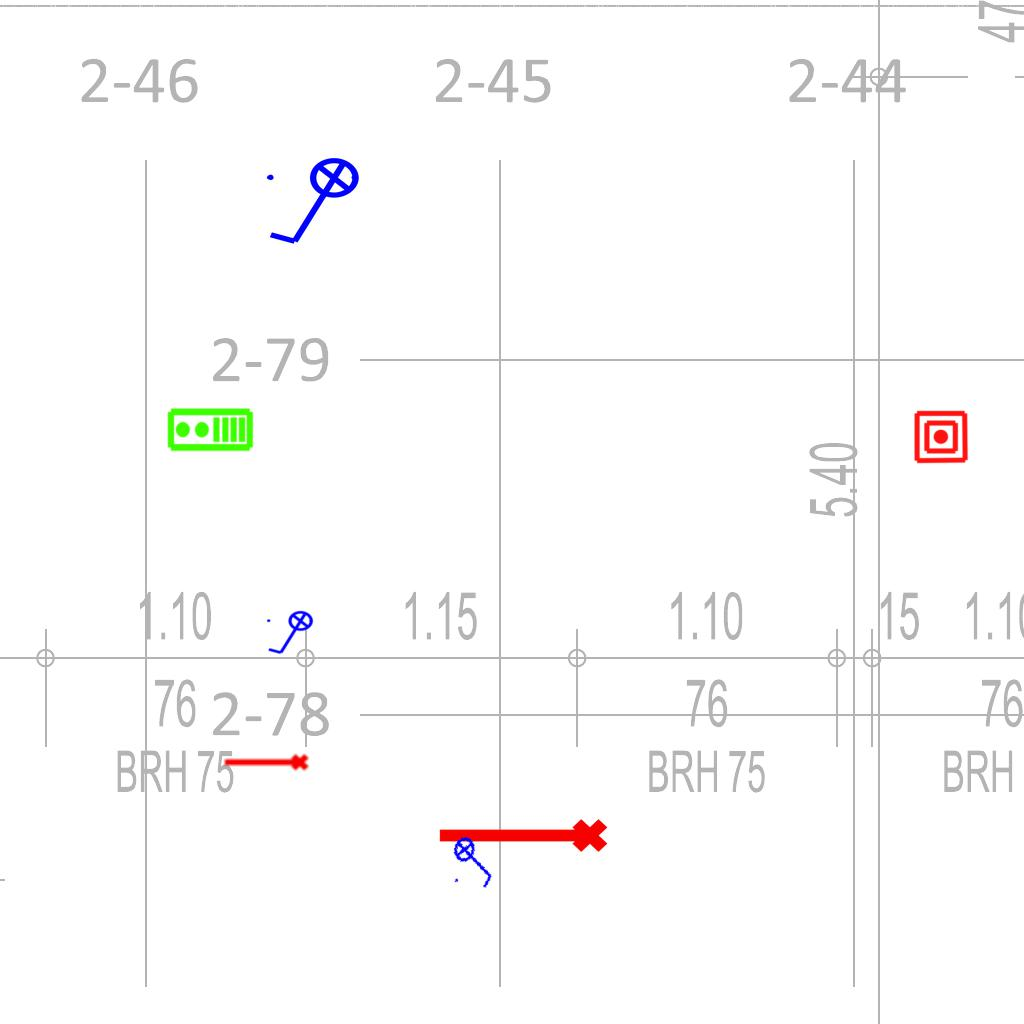ASR_Ansaugoeffnung: (434, 815, 610, 861), (222, 752, 310, 775)
Ausschalter_beleuchtet: (261, 156, 373, 252), (444, 828, 506, 894), (264, 610, 320, 658)
Gegensprechanlage_mit_Video: (166, 407, 254, 454)
NAM-Nichtautomatischer_Melder: (913, 409, 969, 465)
